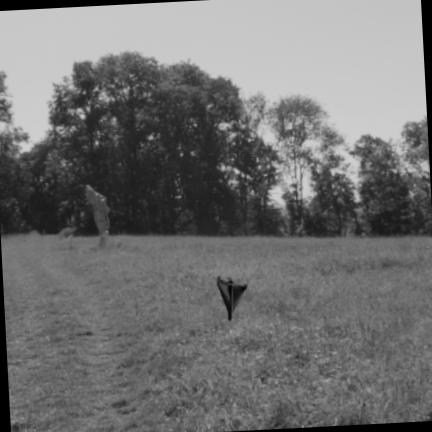Shahed: (218, 277, 247, 320)
